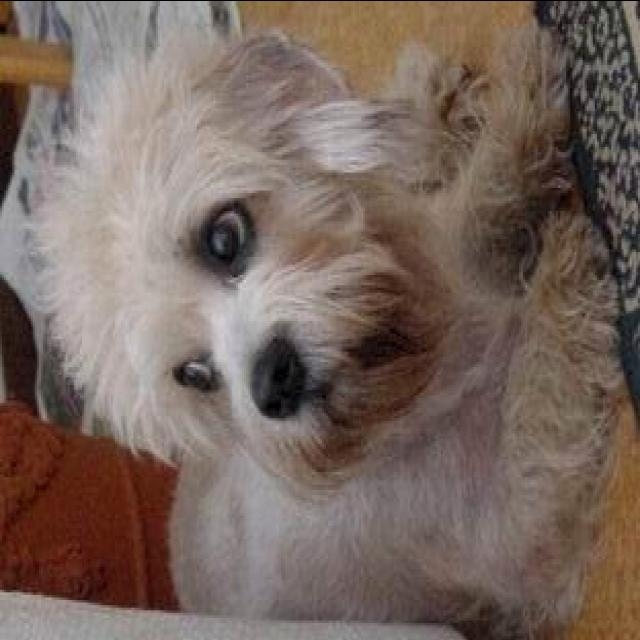dandie_dinmont: (33, 5, 617, 615)
